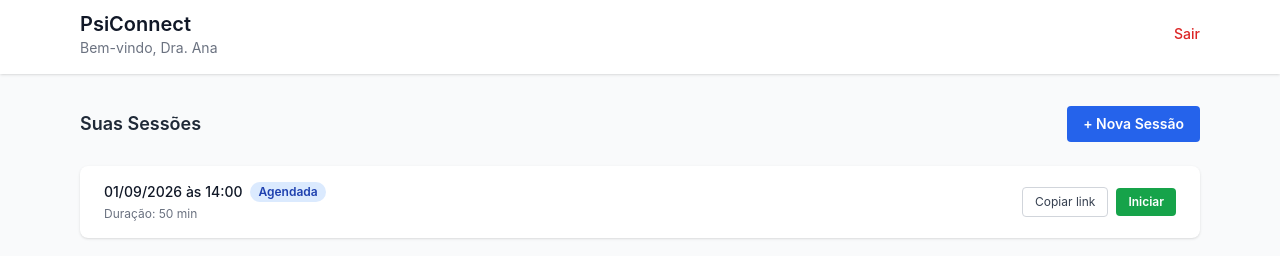
Dashboard — copiar link › dá feedback visual após copiar
The width and height of the screenshot is (1280, 256).
What coordinates should you click on to do the following:
click the button with aria-label "copiar link da sessão"
I would click on:
 (1065, 202)
Its box is [1022,187,1108,217].
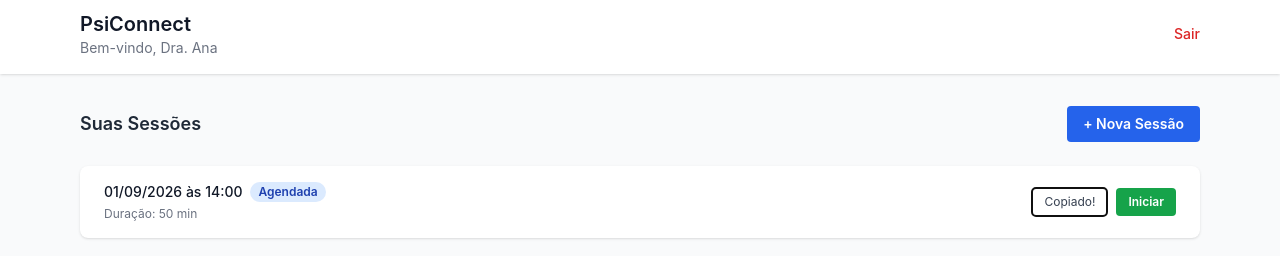
expect the button "Copiado!" is shown: met, box [1032,187,1108,217]
